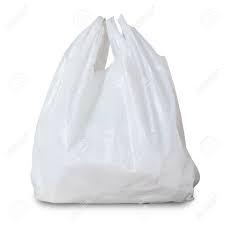plastic: (30, 16, 200, 205)
